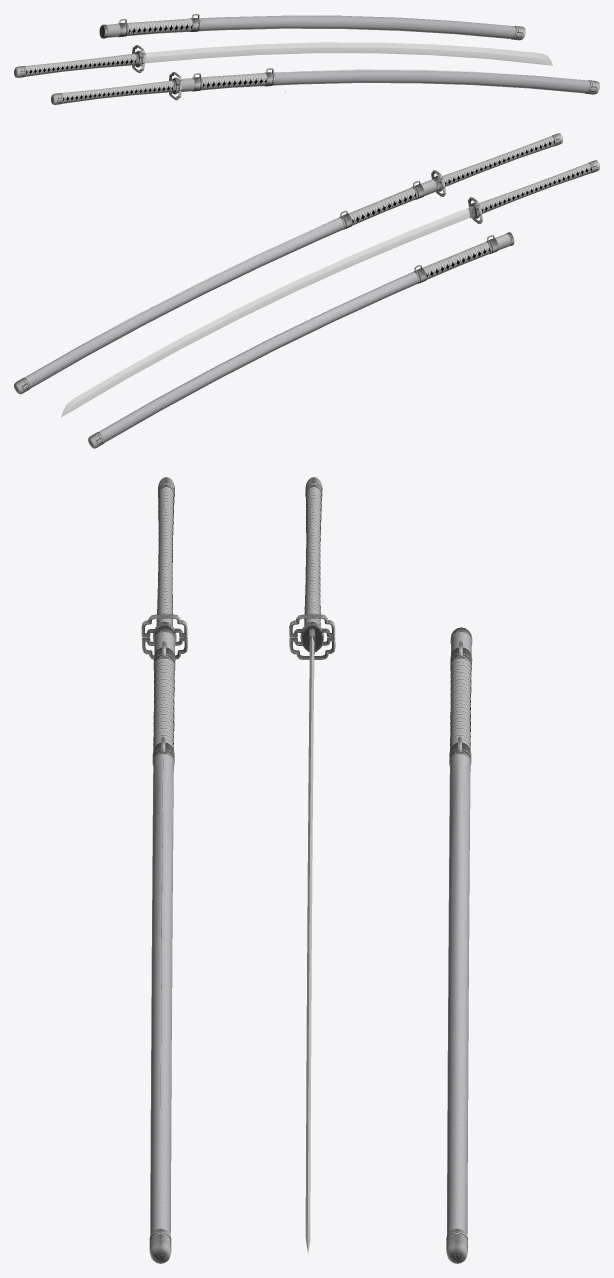
File: asset.glb
3 renders of one model, top to bottom at view 1: azimuth 30°, elevation 25°; view 2: azimuth 210°, elevation 25°; view 3: azimuth 270°, elevation 25°, orthographic. The views are drawn at different scales.
Parts seen in each view (by area): view 1: Material3-material_001-material, Material9-material_001-material, Material9-material-material, Material2-material_001-material (×2), Material2-material-material (×2), Material1-material_001-material (×2), Material1-material-material (×2), Material3-material-material; view 2: Material9-material_001-material, Material3-material_001-material, Material9-material-material, Material2-material-material (×2), Material2-material_001-material (×2), Material1-material-material, Material1-material_001-material; view 3: Material9-material_001-material, Material9-material-material, Material2-material_001-material (×2), Material2-material-material (×2), Material3-material_001-material, Material1-material_001-material (×2), Material1-material-material (×2).
Part boxes in pixels (x1,y1,x2,y2): Material3-material_001-material: (145, 42, 552, 65); Material9-material_001-material: (106, 15, 515, 39); Material9-material-material: (181, 70, 589, 93); Material2-material_001-material (×2): (25, 18, 192, 76); Material2-material-material (×2): (62, 73, 266, 103); Material1-material_001-material (×2): (14, 14, 525, 77); Material1-material-material (×2): (51, 68, 599, 104); Material3-material-material: (232, 69, 529, 75); Material9-material_001-material: (99, 233, 510, 442); Material3-material_001-material: (61, 208, 470, 417); Material9-material-material: (25, 179, 436, 388); Material2-material-material (×2): (348, 136, 554, 225); Material2-material_001-material (×2): (423, 163, 591, 279); Material1-material-material: (14, 178, 439, 394); Material1-material_001-material: (88, 232, 514, 448); Material9-material_001-material: (447, 632, 471, 1235); Material9-material-material: (150, 632, 174, 1235); Material2-material_001-material (×2): (304, 487, 471, 749); Material2-material-material (×2): (153, 487, 174, 749); Material3-material_001-material: (305, 635, 314, 1254); Material1-material_001-material (×2): (289, 477, 472, 1263); Material1-material-material (×2): (141, 477, 187, 1263).
Size of the model in its own units: 2.59 by 0.5918 by 0.6803.
Materials: 17 (17 with a texture image).
